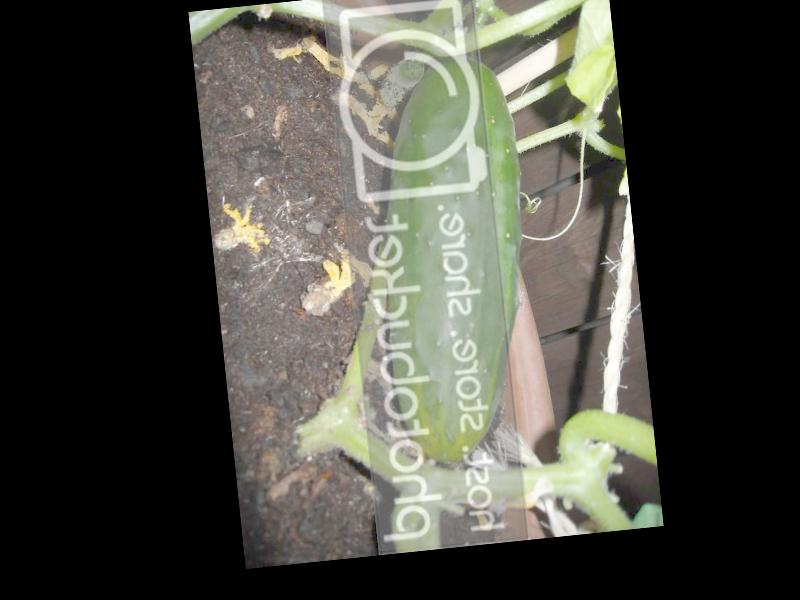Cucumber: (358, 54, 547, 467)
